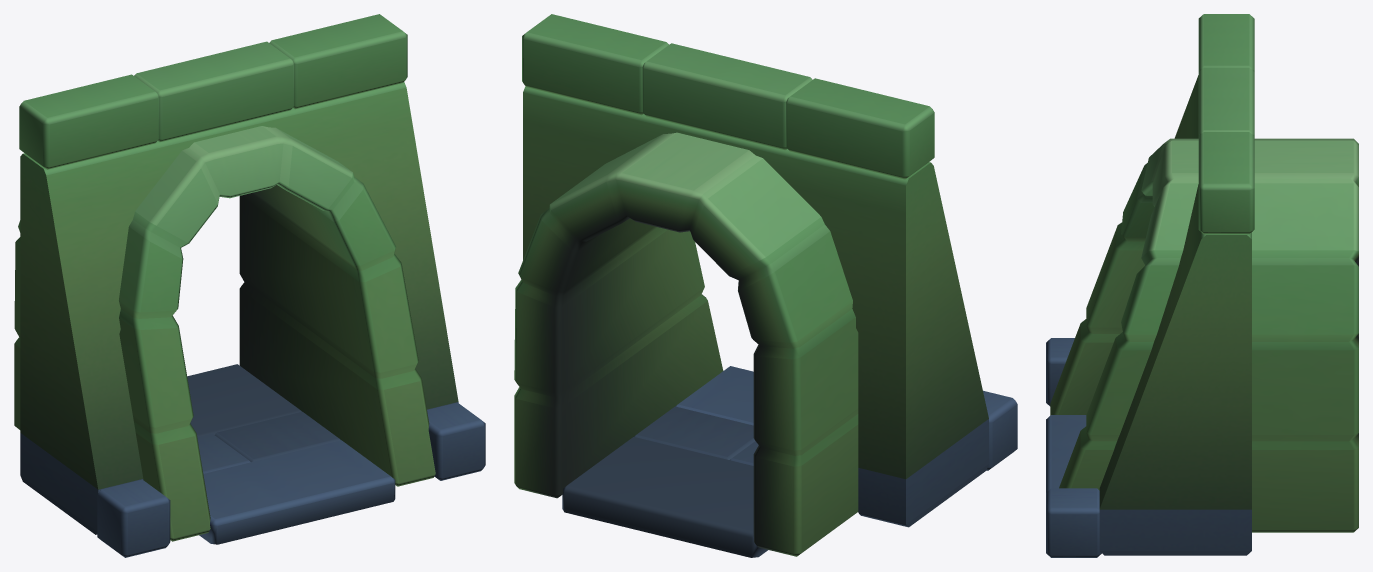
Rendered from doorway_lower_wall_walkable.fbx.
3 views of the same model, side by side, from view 1: azimuth 30°, elevation 25°; view 2: azimuth 150°, elevation 25°; view 3: azimuth 270°, elevation 25° (orthographic). The views are drawn at different scales.
Visible parts, largest first — view 1: doorway_lower_wall_walkable; view 2: doorway_lower_wall_walkable; view 3: doorway_lower_wall_walkable.
Boxes of the visible parts, left/top/right/bottom form: doorway_lower_wall_walkable: left=14, top=14, right=485, bottom=557; doorway_lower_wall_walkable: left=514, top=14, right=1017, bottom=557; doorway_lower_wall_walkable: left=1046, top=14, right=1358, bottom=557.
Bounding box in the file's own units: 405 × 413 × 308.
